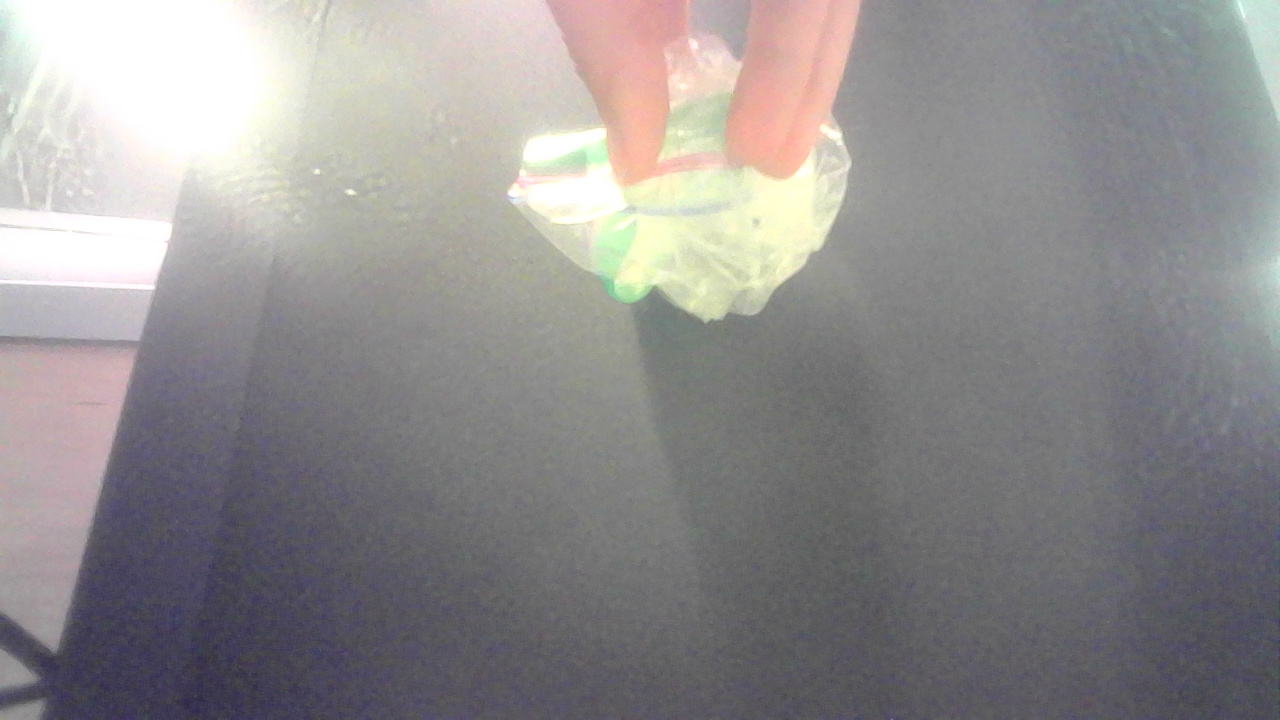Plastic_Recycling: (515, 34, 847, 356)
